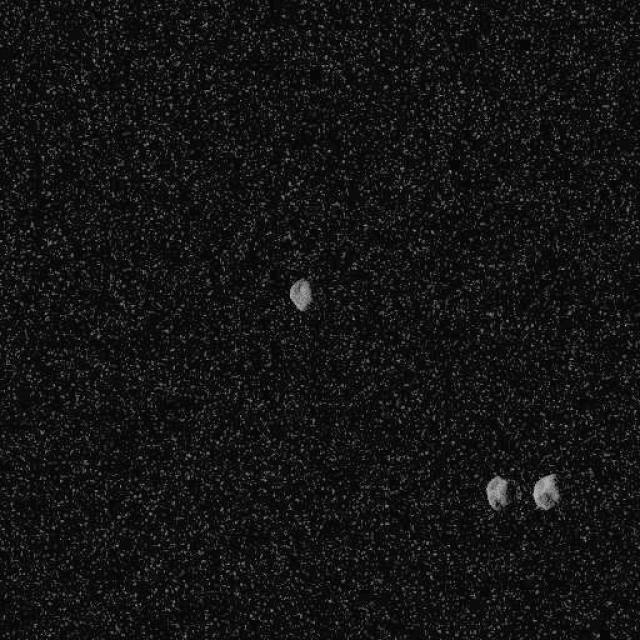D2: (531, 472, 560, 512), (484, 474, 508, 511), (288, 278, 312, 312)
